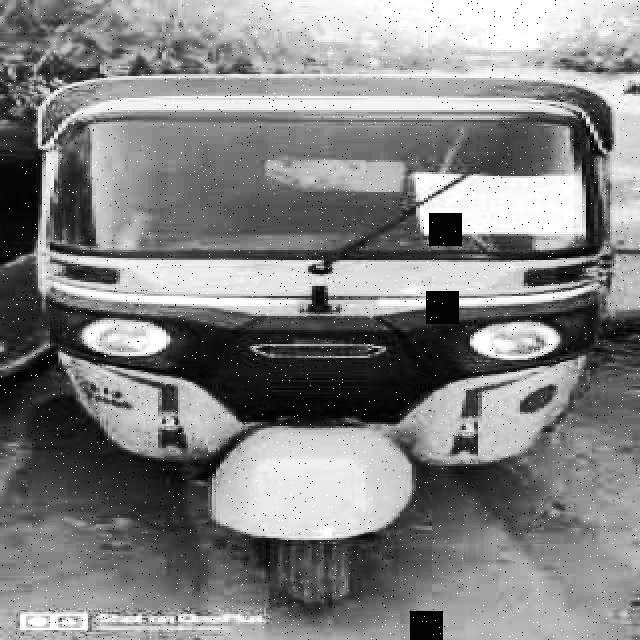Auto-Rickshaw: (14, 64, 632, 612)
